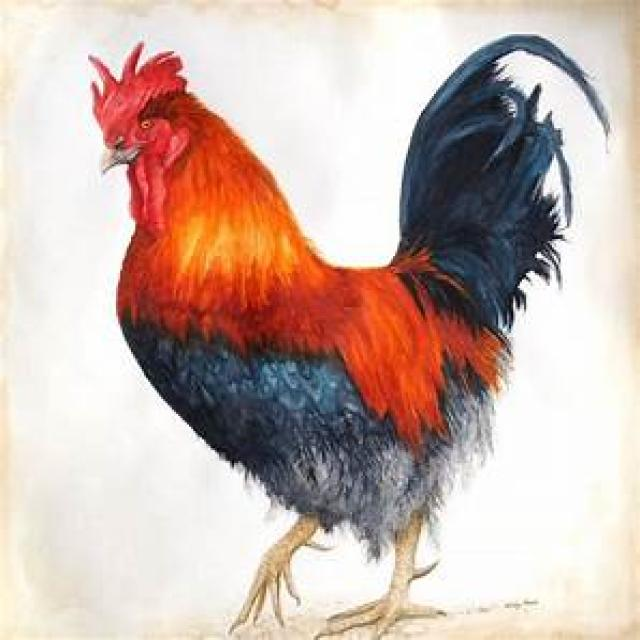hen: (86, 41, 580, 631)
